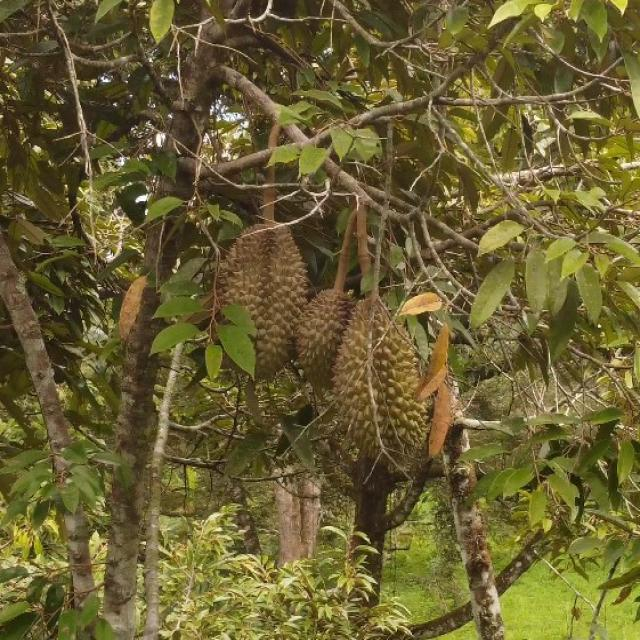mature: (335, 294, 429, 464), (215, 221, 305, 381), (297, 284, 367, 400)
